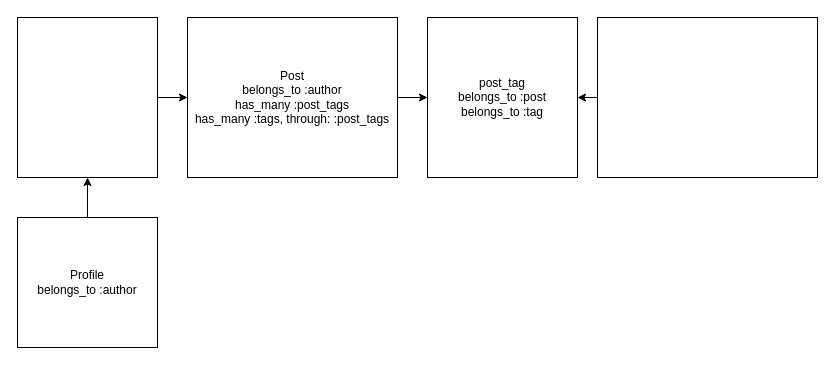
Image size: 835x365. Some labels were removed from this diagram. The box of each missing label's shape, as (x1, y1, x2, y2) in pixels:
Author has_one :profile has_many :posts: (16, 16, 158, 178)
Tag has_many :post_tags has_many :posts, through: :post_tags: (596, 16, 818, 178)
